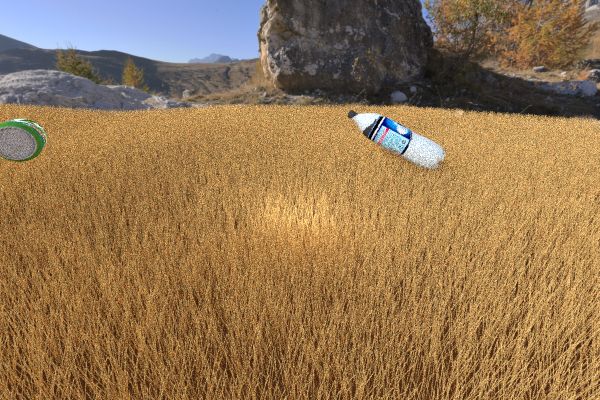Plastic Bottle: (347, 109, 445, 169), (0, 118, 47, 161)
